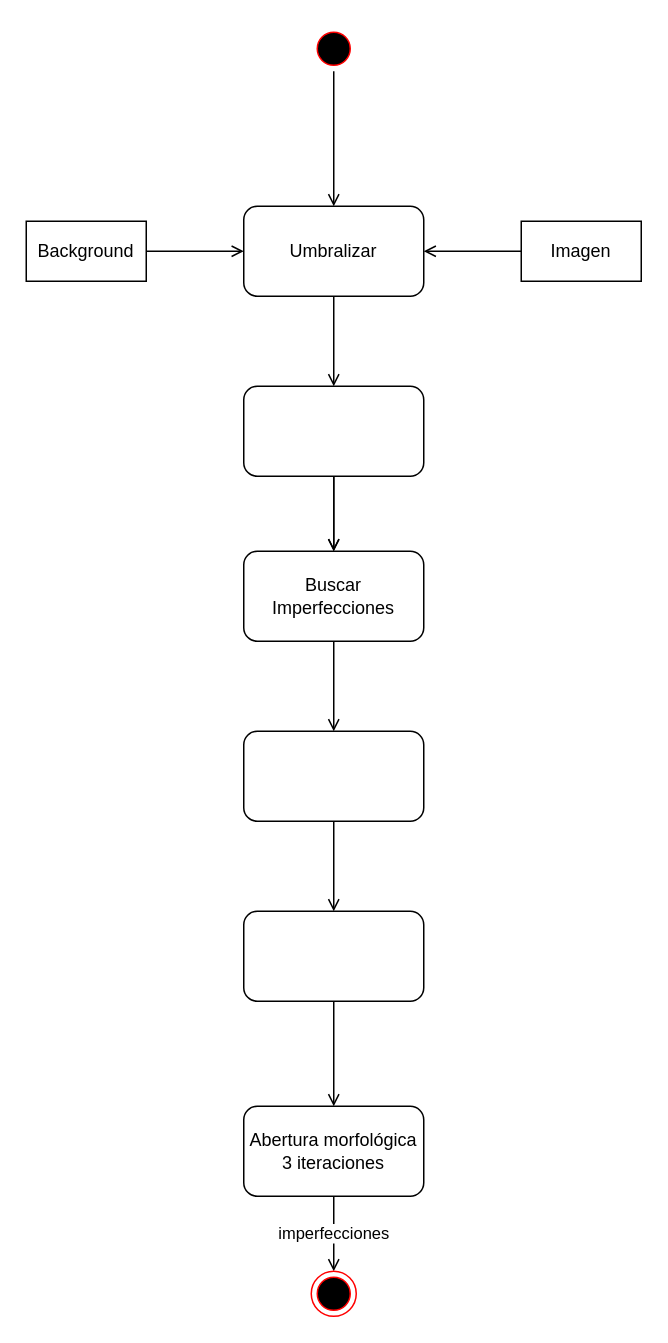
This 668x1343 diagram has some shape labels left out. The shapes that lost their labels are listed below. From the top down, each one's centre as x and y in pixels, then its label:
At point (333, 430): "Descartar Background".
At point (333, 775): "Dilatación 1 iteración".
At point (333, 955): "Cierre morfológico 3 iteraciones".
